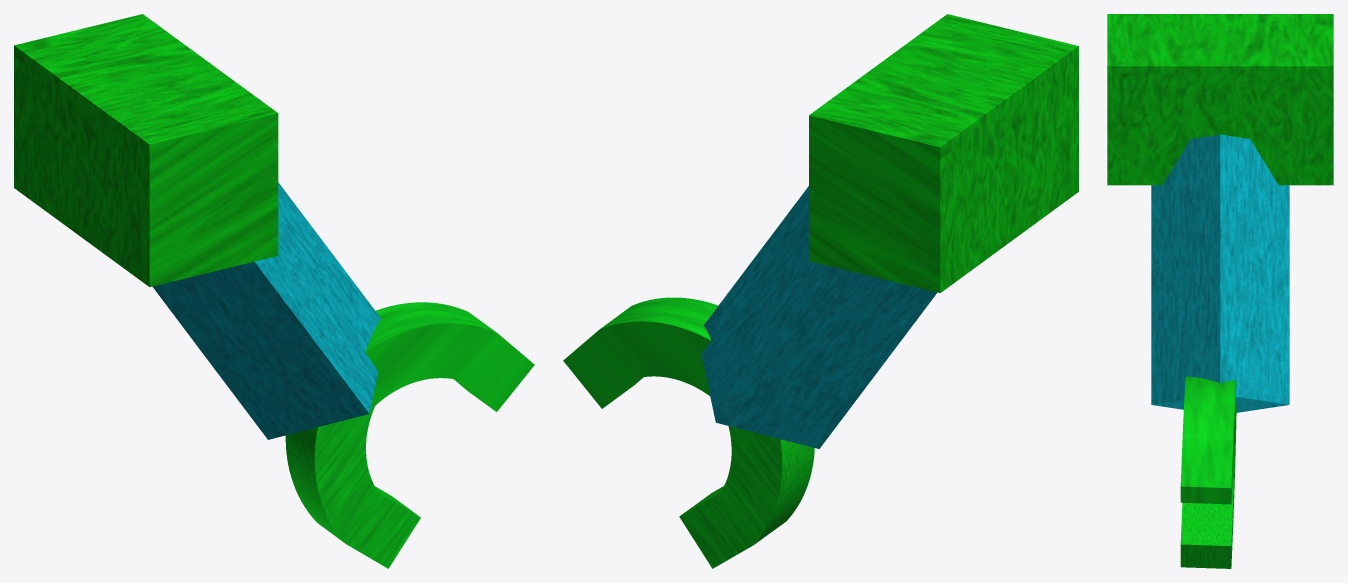
Rendered from bossLeftArm.obj.
The picture shows the model from 3 angles, left to right: view 1: azimuth 30°, elevation 25°; view 2: azimuth 150°, elevation 25°; view 3: azimuth 270°, elevation 25°; orthographic projection. The views are drawn at different scales.
Parts seen in each view (by area): view 1: bossLeftArm; view 2: bossLeftArm; view 3: bossLeftArm.
Boxes of the visible parts, x1,y1,x2,y2 form: bossLeftArm: [14, 14, 534, 568]; bossLeftArm: [563, 14, 1078, 568]; bossLeftArm: [1107, 14, 1333, 568].
Size of the model in its own units: 1.14 by 1.33 by 0.62.
1 material, 1 textured.
